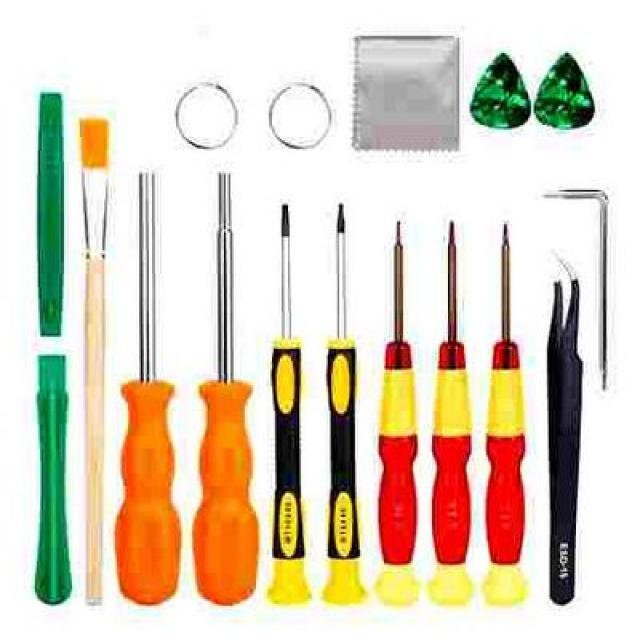screwdriver: (190, 165, 264, 614), (114, 161, 186, 607), (478, 213, 532, 614), (318, 196, 369, 614), (266, 195, 316, 612), (372, 215, 424, 612), (428, 212, 477, 614)
